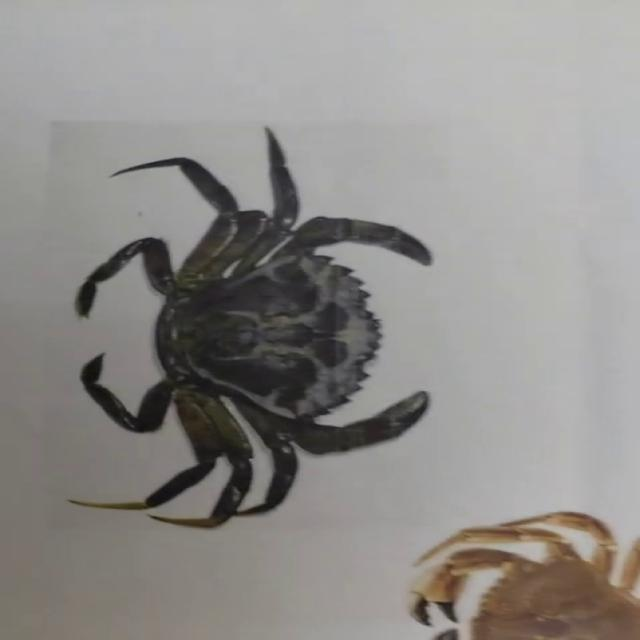egc: (70, 127, 428, 527)
